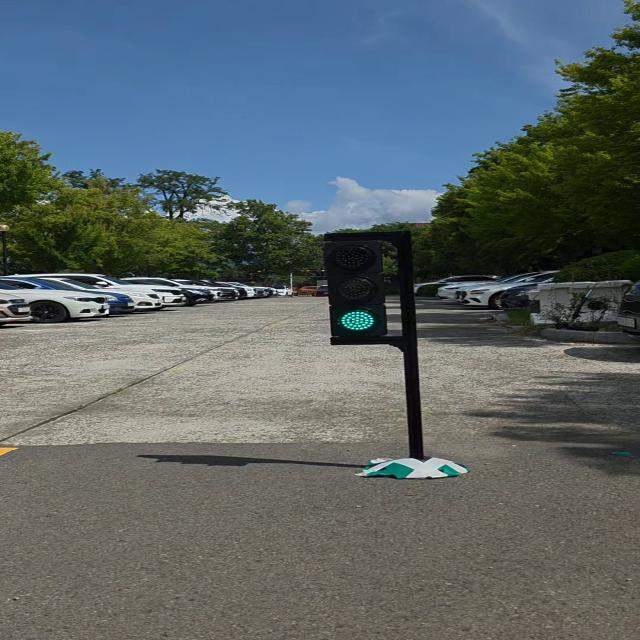green: (328, 236, 386, 342)
